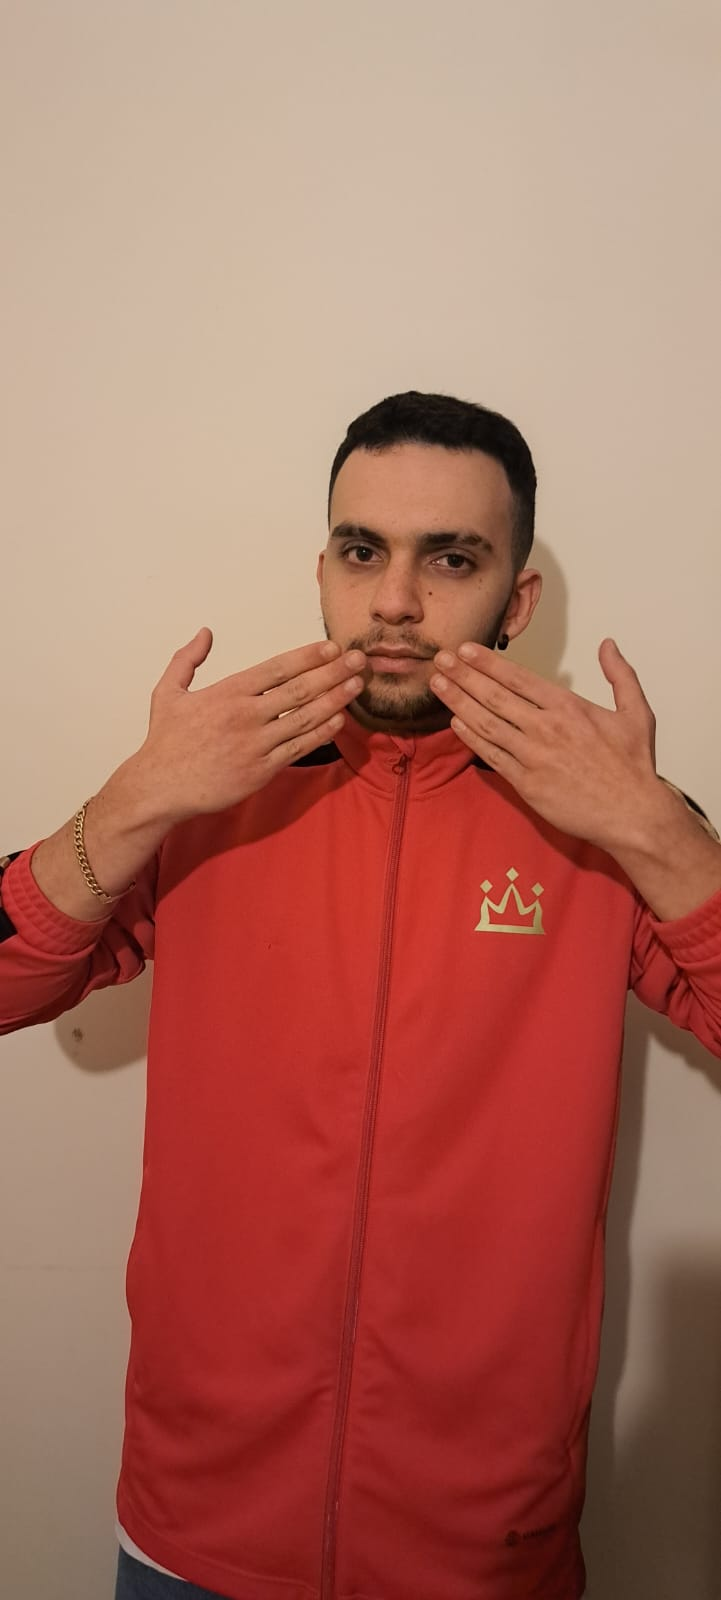grazie: (105, 634, 645, 849)
